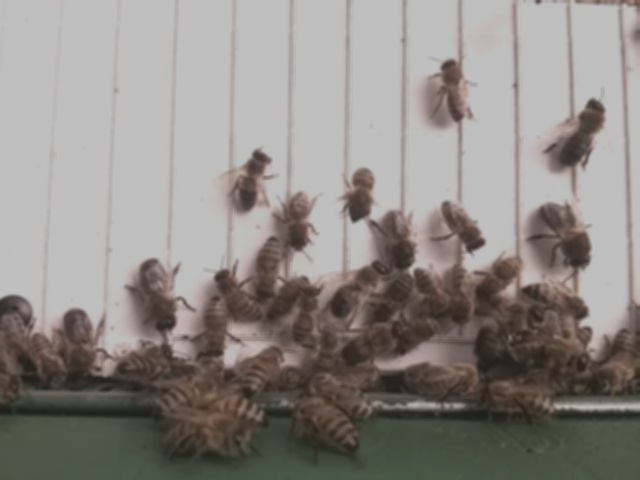Drone: (535, 196, 595, 271), (328, 257, 391, 321), (556, 95, 610, 168), (135, 256, 182, 334), (340, 320, 410, 367), (65, 303, 100, 387), (379, 206, 419, 276)
Worker: (475, 373, 558, 420), (295, 396, 363, 452), (472, 249, 529, 309), (440, 259, 483, 336), (285, 280, 330, 351), (520, 278, 593, 321), (214, 265, 266, 323), (438, 194, 488, 253), (279, 188, 324, 253), (413, 362, 481, 404), (435, 53, 473, 127), (233, 145, 272, 212), (243, 342, 287, 400), (251, 232, 287, 302), (339, 162, 379, 224), (31, 325, 70, 387), (416, 259, 452, 326), (200, 292, 230, 355)
